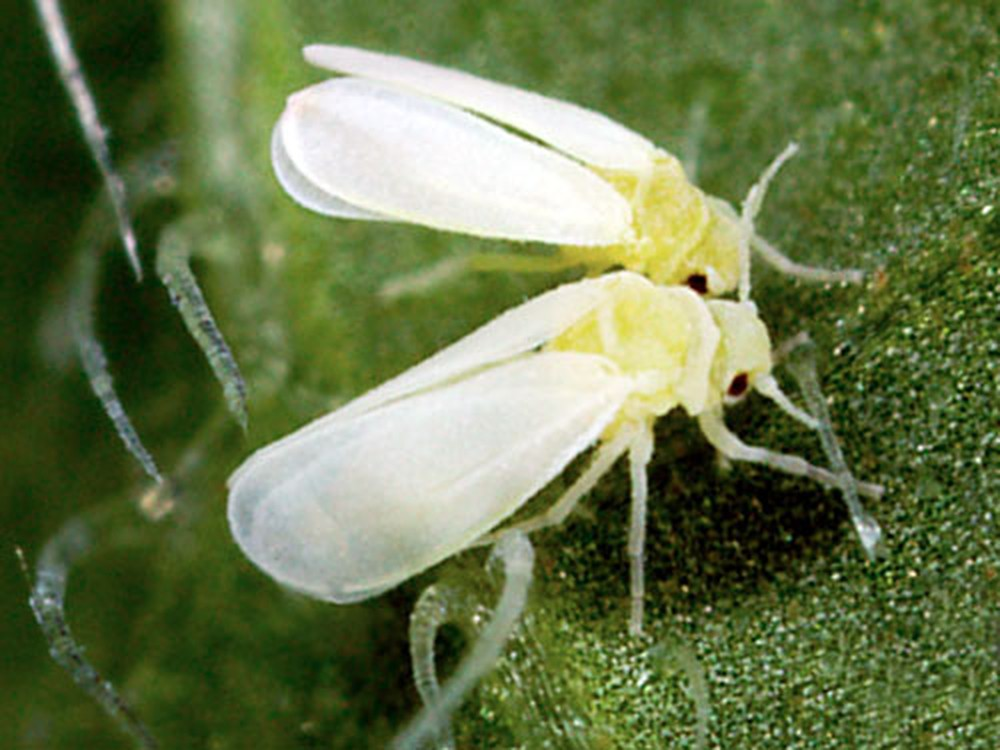Mosca Blanca: (189, 268, 897, 651), (237, 35, 885, 351)
